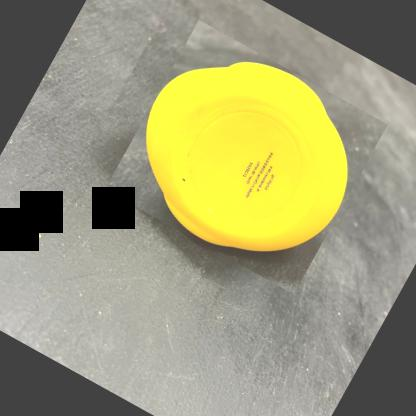duck: (104, 20, 387, 294)
